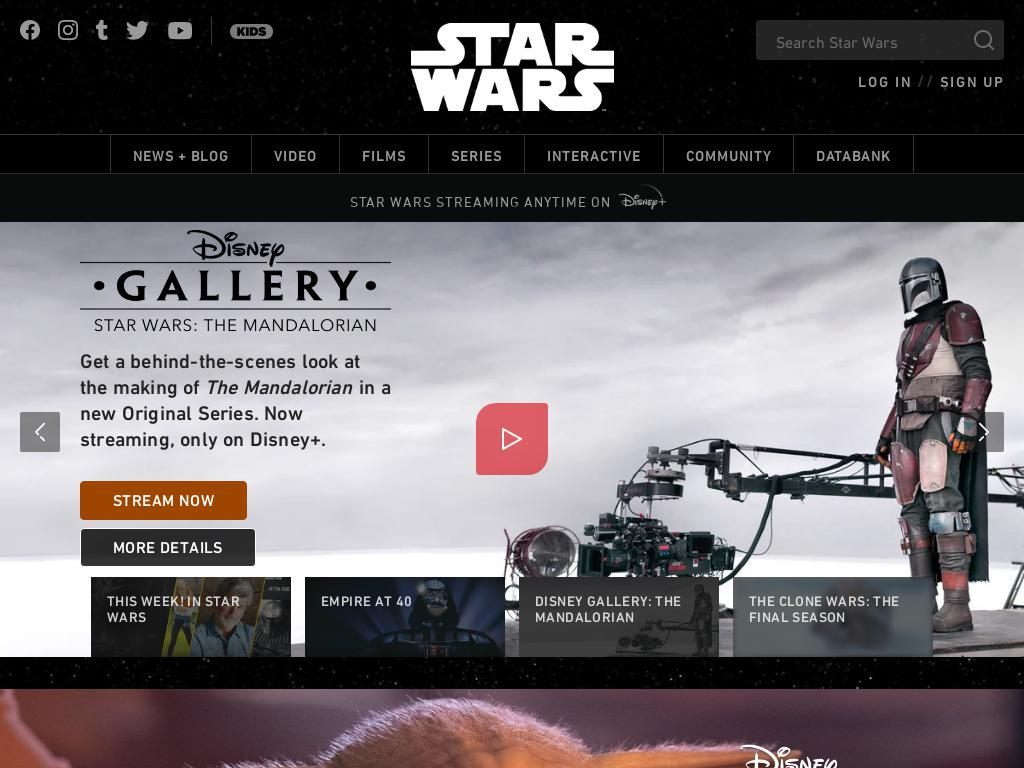button: (0, 174, 1024, 218), (80, 527, 215, 567), (133, 148, 229, 164), (547, 148, 641, 164), (686, 148, 771, 164), (816, 148, 891, 164), (451, 148, 502, 164), (362, 148, 406, 164), (230, 23, 273, 39), (274, 148, 317, 164), (167, 22, 193, 40), (126, 21, 149, 40), (20, 20, 40, 40), (58, 20, 78, 40), (96, 20, 108, 40)
field: (764, 22, 963, 62)
heading: (80, 427, 333, 499), (79, 403, 344, 451), (632, 740, 944, 768), (80, 379, 374, 403), (349, 195, 611, 209), (618, 184, 667, 211)
image: (0, 222, 1024, 657), (80, 221, 380, 657), (0, 688, 1024, 768), (410, 23, 614, 111), (91, 576, 291, 657), (305, 576, 505, 657), (519, 576, 719, 657), (733, 576, 933, 657), (970, 412, 998, 451), (26, 412, 54, 451), (167, 22, 193, 40), (126, 21, 149, 40), (20, 20, 40, 40), (58, 20, 78, 40), (974, 30, 994, 50), (237, 26, 268, 36), (96, 20, 108, 40)
text: (107, 594, 275, 641), (535, 594, 703, 641), (749, 594, 917, 641), (321, 594, 413, 641), (133, 148, 229, 164), (547, 148, 641, 164), (940, 71, 1004, 93), (686, 148, 771, 164), (816, 148, 891, 164), (858, 71, 912, 93), (451, 148, 502, 164), (362, 148, 406, 164), (274, 148, 317, 164), (917, 70, 935, 92)
